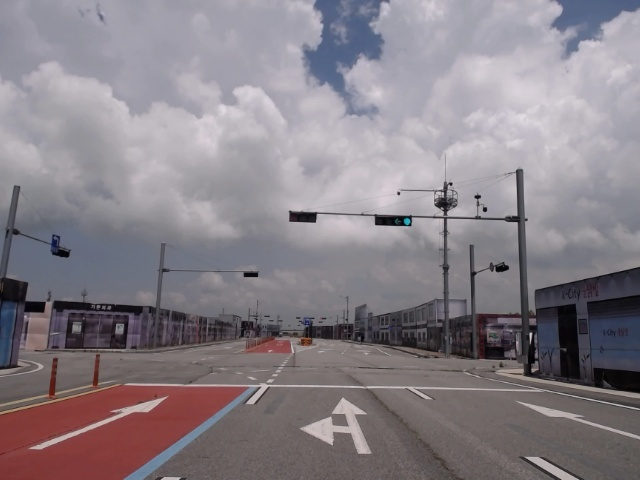all_green_4: (374, 215, 411, 228)
